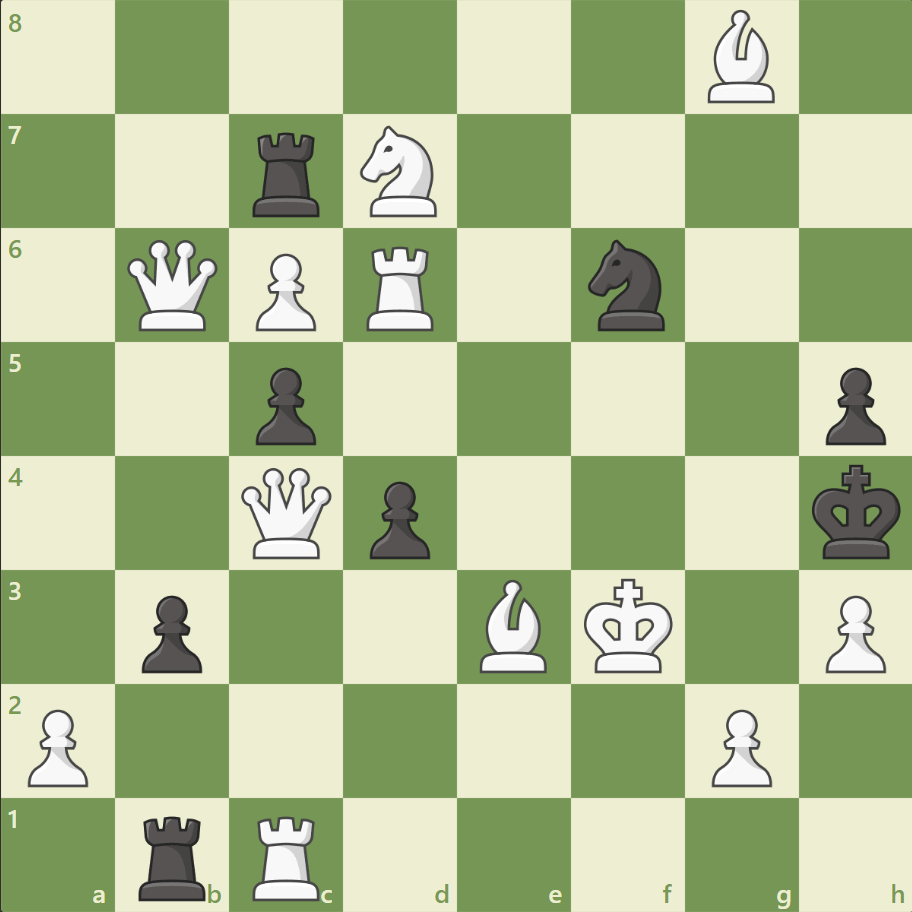B: (698, 6, 782, 109), (471, 574, 555, 676)
K: (579, 571, 679, 679)
N: (351, 121, 449, 223)
P: (247, 246, 322, 337), (20, 700, 95, 791), (701, 700, 776, 791), (815, 586, 889, 677)
Q: (124, 236, 223, 335), (237, 463, 336, 562)
R: (246, 806, 329, 904), (360, 239, 442, 336)
k: (806, 458, 906, 566)
n: (579, 234, 676, 337)
p: (247, 359, 322, 450), (133, 586, 208, 677), (815, 359, 889, 450), (361, 473, 435, 564)
r: (246, 125, 329, 222), (133, 806, 215, 904)
